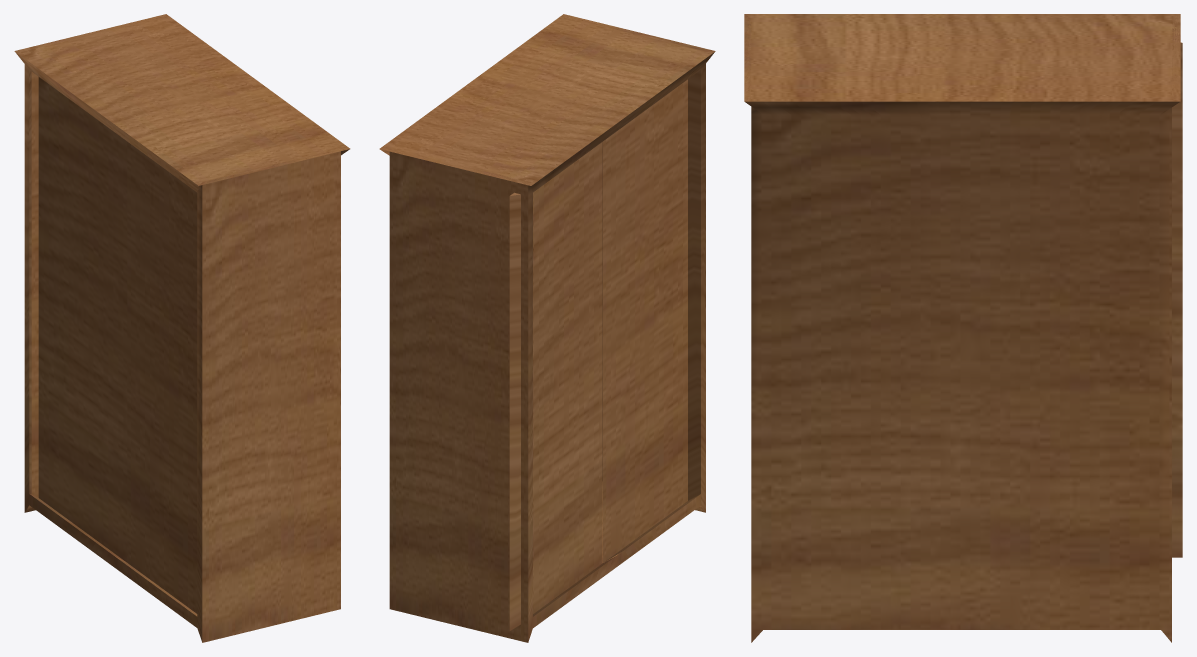
Rendered from Wardrobe.FBX.
3 views of the same model, side by side, from view 1: azimuth 30°, elevation 25°; view 2: azimuth 150°, elevation 25°; view 3: azimuth 270°, elevation 25° (orthographic). The views are drawn at different scales.
Visible parts, largest first — view 1: Box001; view 2: Box001; view 3: Box001.
Part boxes in pixels (<box>): Box001: <box>14,14,350,642</box>; Box001: <box>379,14,715,642</box>; Box001: <box>744,14,1182,642</box>.
Bounding box in the file's own units: 24.58 × 71.24 × 51.89.
Materials: 1 (1 with a texture image).
